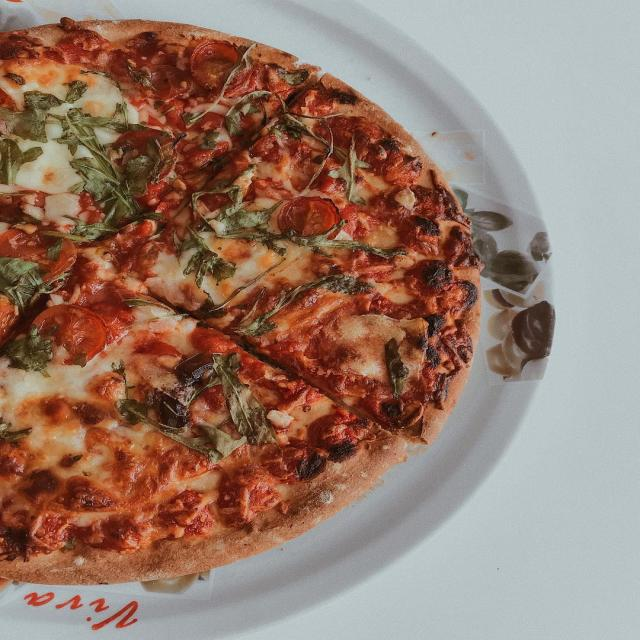basil: (105, 389, 253, 466), (228, 270, 372, 344), (66, 146, 166, 224), (205, 352, 283, 449), (187, 41, 263, 127), (186, 179, 281, 246), (264, 227, 411, 266), (273, 91, 346, 163), (171, 223, 239, 290), (37, 213, 118, 263), (324, 137, 377, 209), (0, 323, 63, 379), (1, 89, 62, 145), (0, 253, 52, 314), (121, 134, 169, 194), (52, 109, 105, 163), (220, 84, 271, 138), (0, 136, 42, 190), (380, 334, 410, 404), (1, 404, 35, 452), (104, 100, 147, 136), (121, 294, 176, 318), (103, 357, 132, 400), (266, 61, 311, 88), (124, 60, 153, 92), (195, 128, 222, 152), (61, 80, 90, 102), (0, 67, 25, 86), (72, 353, 89, 370)
pizza: (0, 17, 481, 584)
tomatoes: (23, 303, 112, 368), (1, 219, 79, 289), (183, 36, 264, 100), (277, 192, 345, 248), (112, 126, 172, 182), (0, 289, 20, 351)
